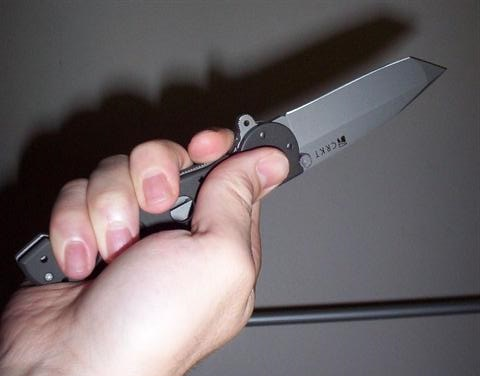knife: (94, 44, 463, 275)
